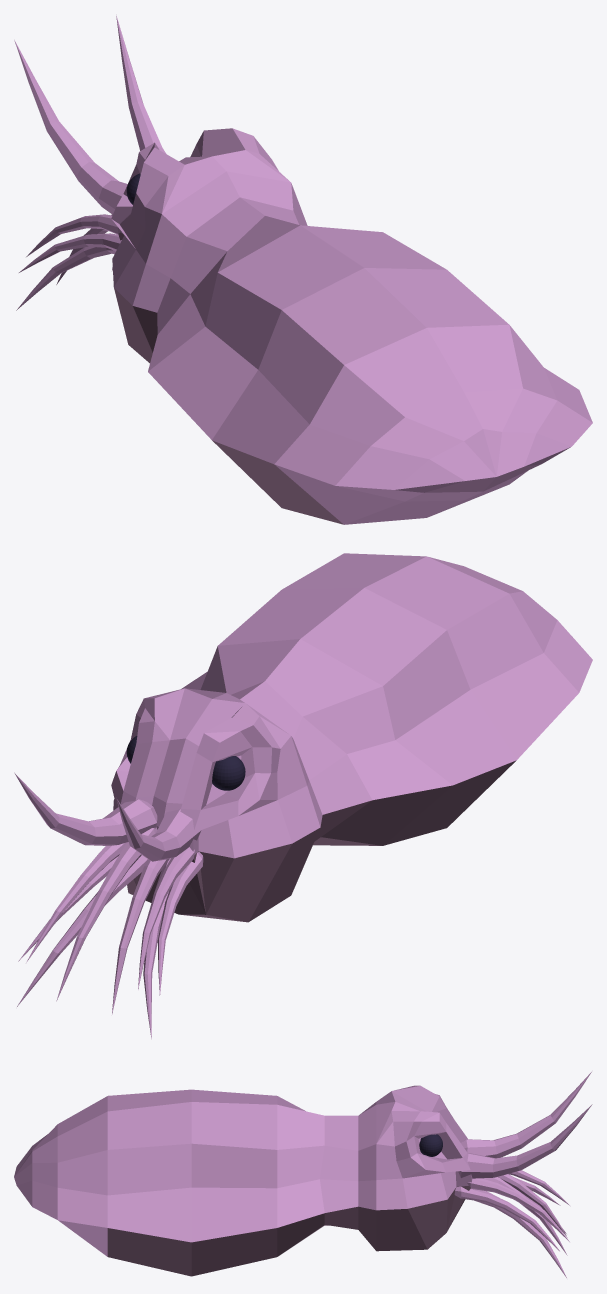
The model's file is Creature.glb.
The picture shows the model from 3 angles, top to bottom: view 1: azimuth 30°, elevation 25°; view 2: azimuth 150°, elevation 25°; view 3: azimuth 270°, elevation 25°; orthographic projection. The views are drawn at different scales.
Parts seen in each view (by area): view 1: Cube; view 2: Cube; view 3: Cube.
Part boxes in pixels (box(x1,y1,x2,y2)): Cube: box(14, 15, 592, 524); Cube: box(14, 553, 592, 1038); Cube: box(14, 1072, 592, 1277).
Bounding box in the file's own units: 3.69 × 2.95 × 9.04.
